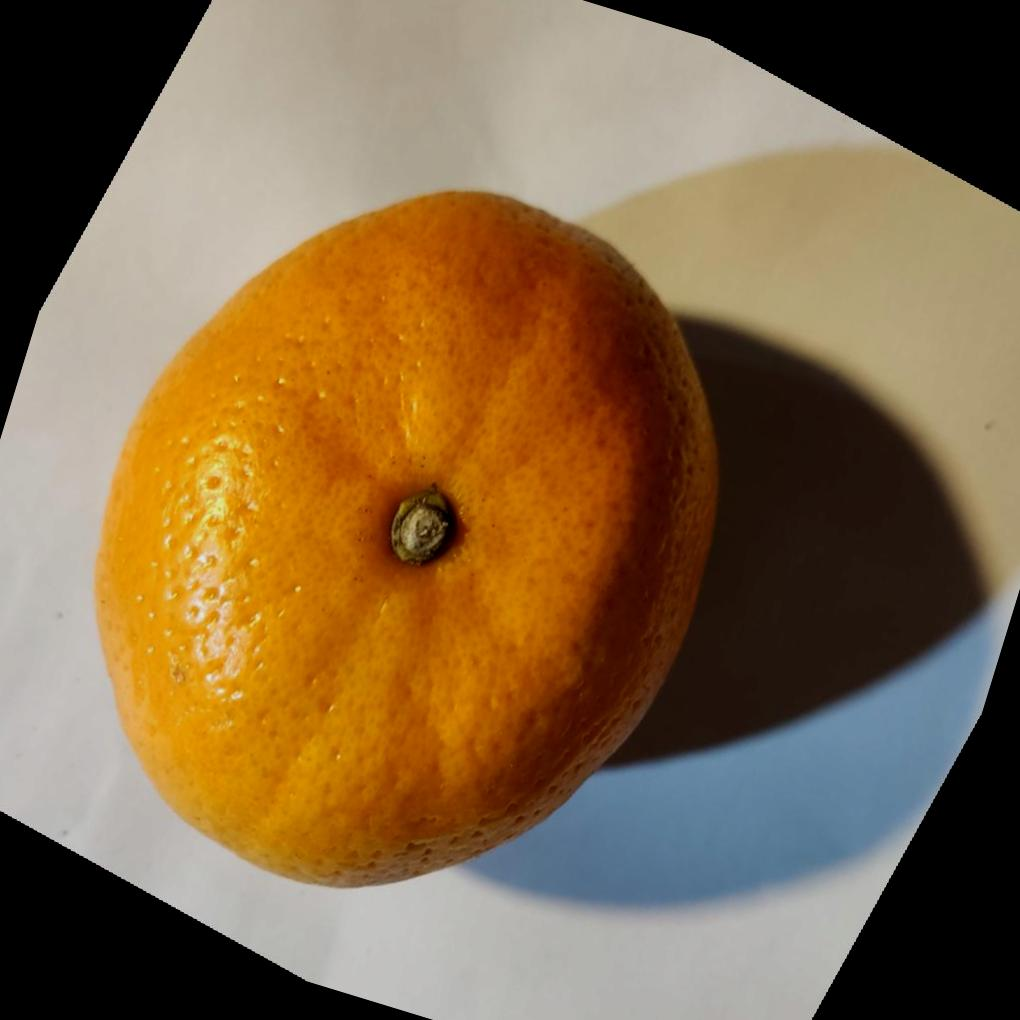FreshGuava: (91, 184, 722, 887)
